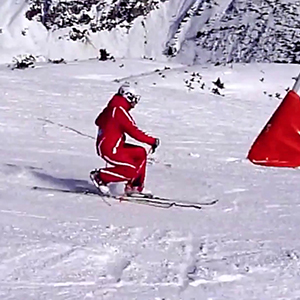person: (86, 82, 161, 200)
